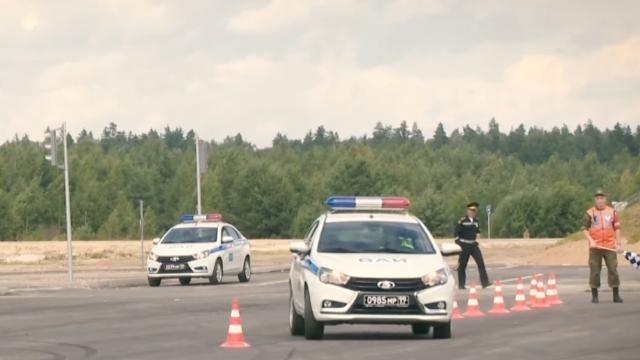police car: (286, 194, 459, 346), (144, 213, 257, 292)
